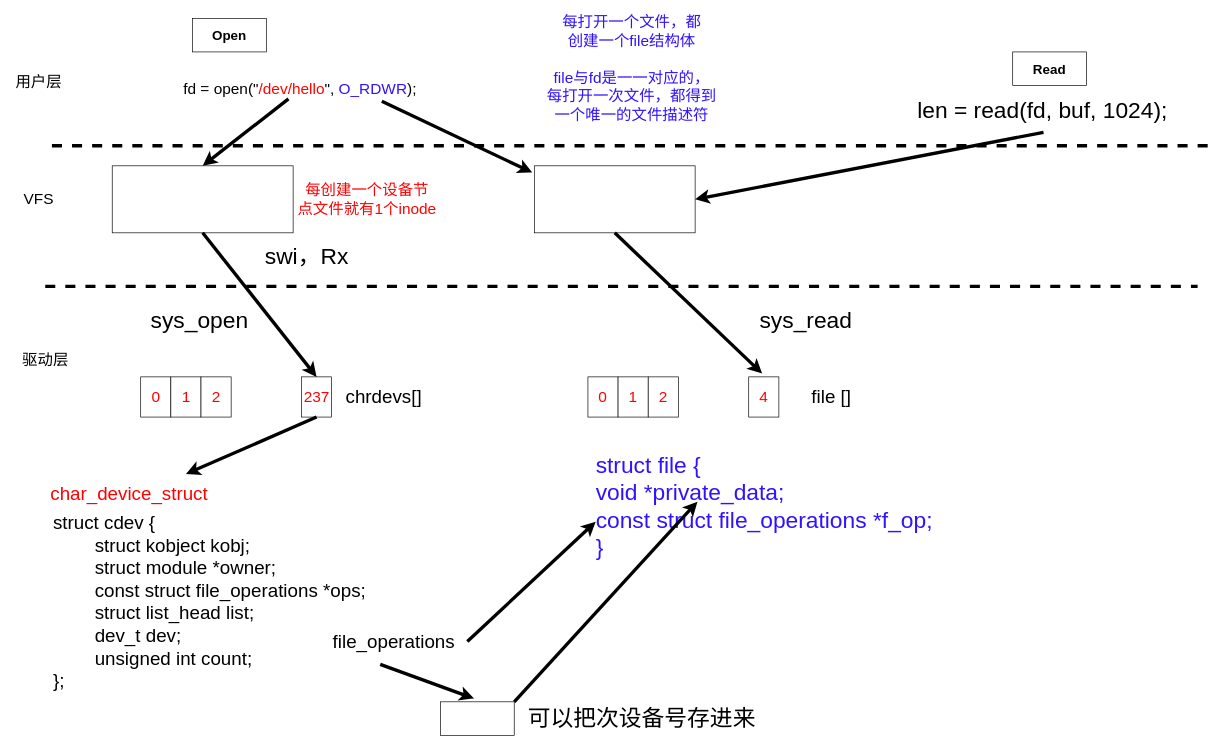
This 1225x747 diagram has some shape labels left out. The shapes that lost their labels are listed below. From the top down, each one's centre as x and y in pixels, then its label:
At (202,199): "inode 存储文件静态信息 （主设备号、次设备号）".
At (614,199): "file 存储动态信息".
At (477,718): "drv_Open".
